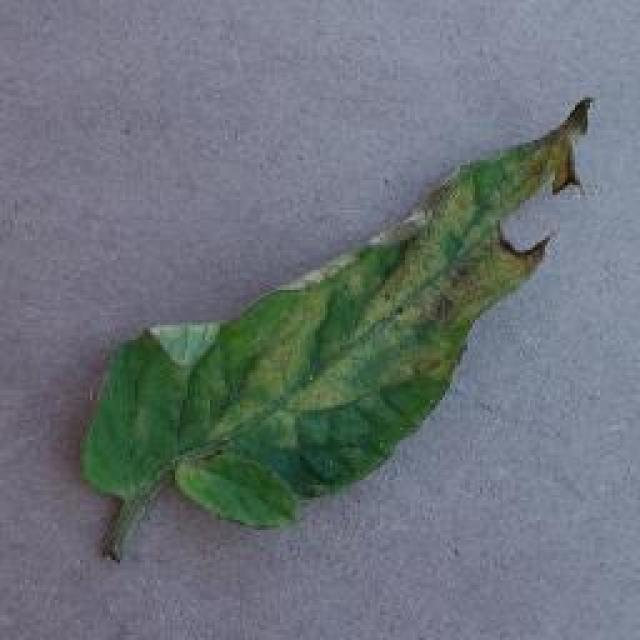Tomato___Leaf_Mold: (80, 98, 592, 565)
